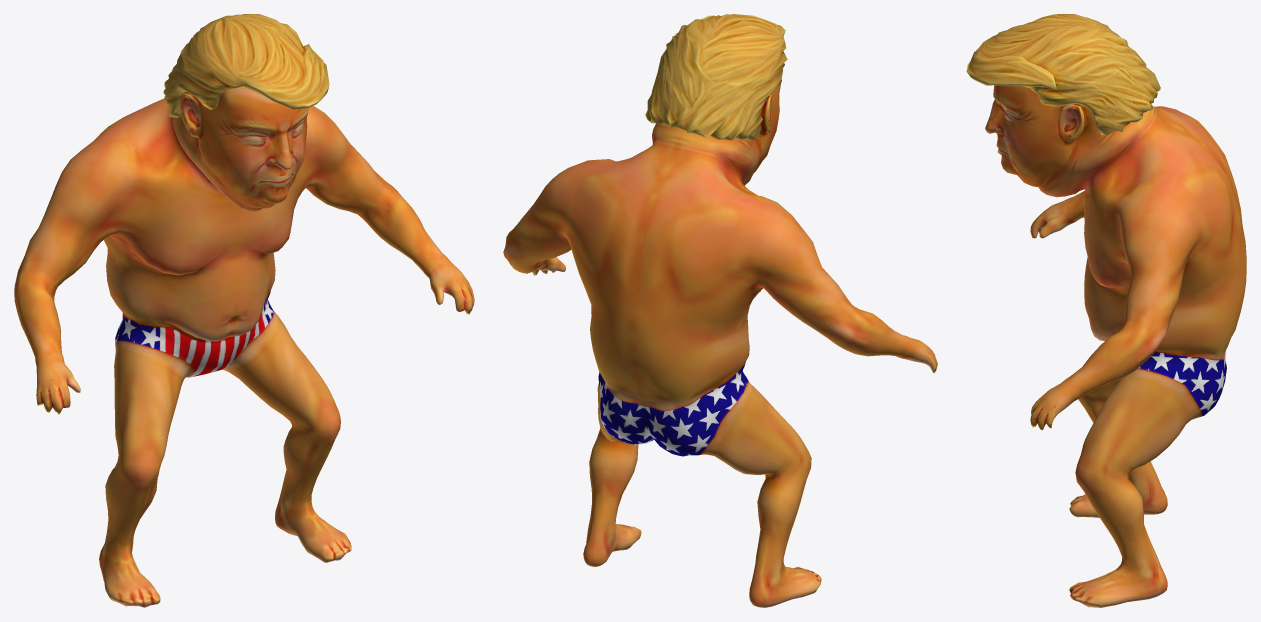
The model's file is Trump.fbx.
3 renders of one model, left to right at view 1: azimuth 30°, elevation 25°; view 2: azimuth 150°, elevation 25°; view 3: azimuth 270°, elevation 25°, orthographic. The views are drawn at different scales.
Visible parts, largest first — view 1: Trump; view 2: Trump; view 3: Trump.
Boxes of the visible parts, <box> form: Trump: <box>14,14,474,607</box>; Trump: <box>503,14,937,607</box>; Trump: <box>966,14,1246,607</box>.
Bounding box in the file's own units: 186 × 230 × 109.
